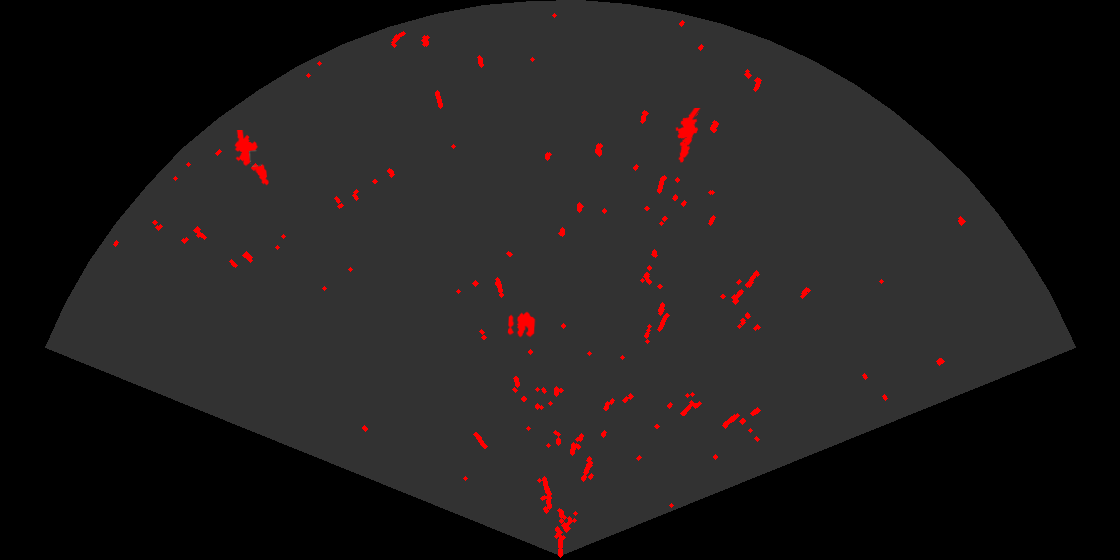ball: (506, 310, 537, 339)
frogman: (233, 130, 270, 188), (674, 108, 702, 164)
